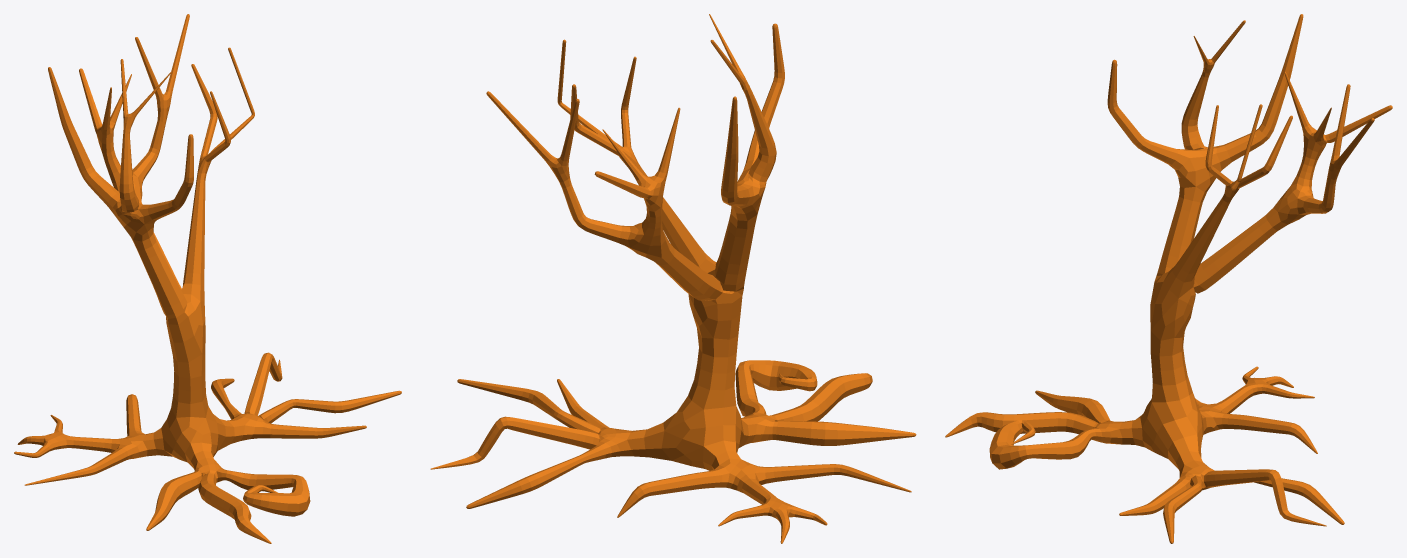
File: Arvore_morta_3.fbx
3 renders of one model, left to right at view 1: azimuth 30°, elevation 25°; view 2: azimuth 150°, elevation 25°; view 3: azimuth 270°, elevation 25°, orthographic. The views are drawn at different scales.
Visible parts, largest first — view 1: Vert.001; view 2: Vert.001; view 3: Vert.001.
Boxes of the visible parts, x1=… form: Vert.001: x1=14, y1=14, x2=401, y2=543; Vert.001: x1=430, y1=14, x2=916, y2=543; Vert.001: x1=945, y1=14, x2=1392, y2=543.
Size of the model in its own units: 840 by 839 by 806.
